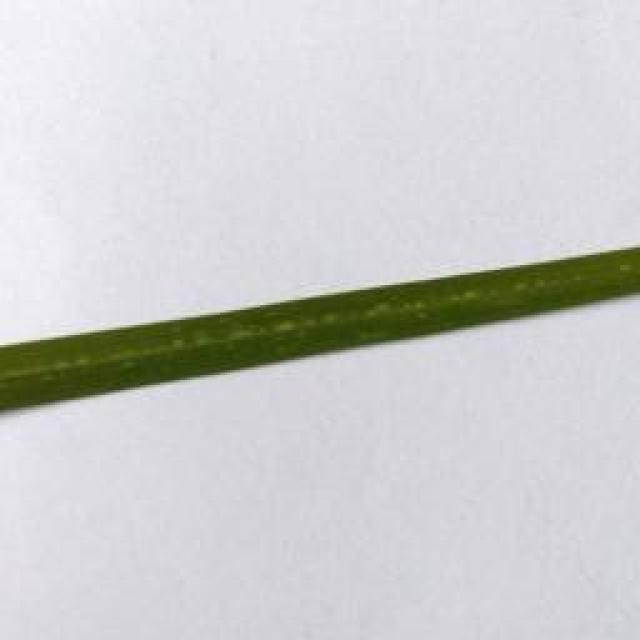Healthy-Plant: (0, 247, 638, 415)
